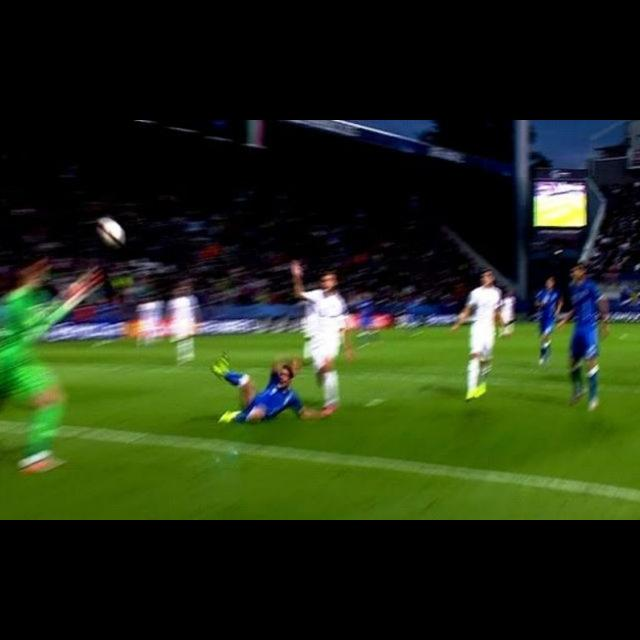Football: (82, 212, 128, 252)
